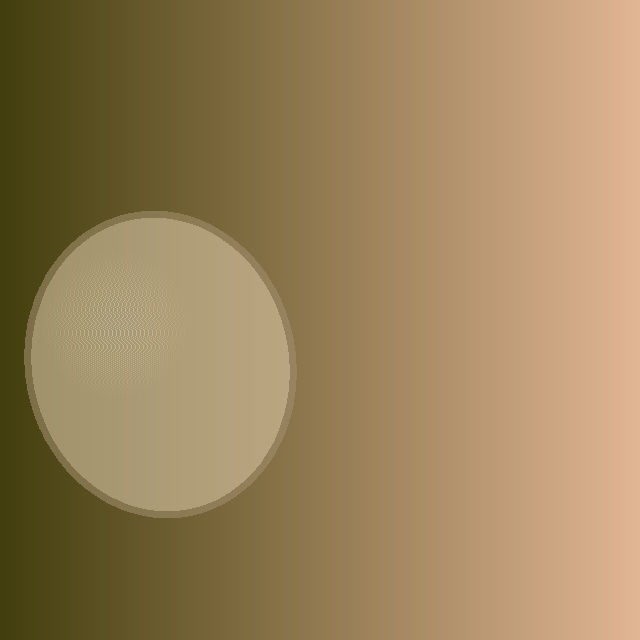lens: (27, 214, 293, 514)
